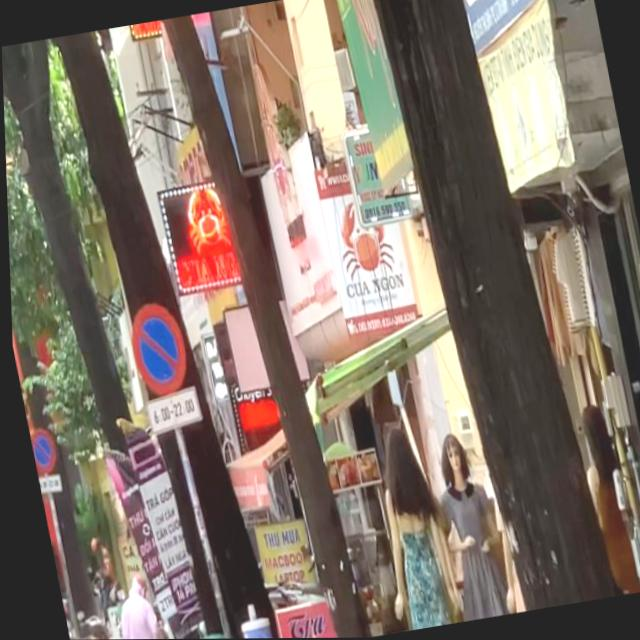Cam do xe: (122, 301, 190, 395), (25, 424, 57, 474)
